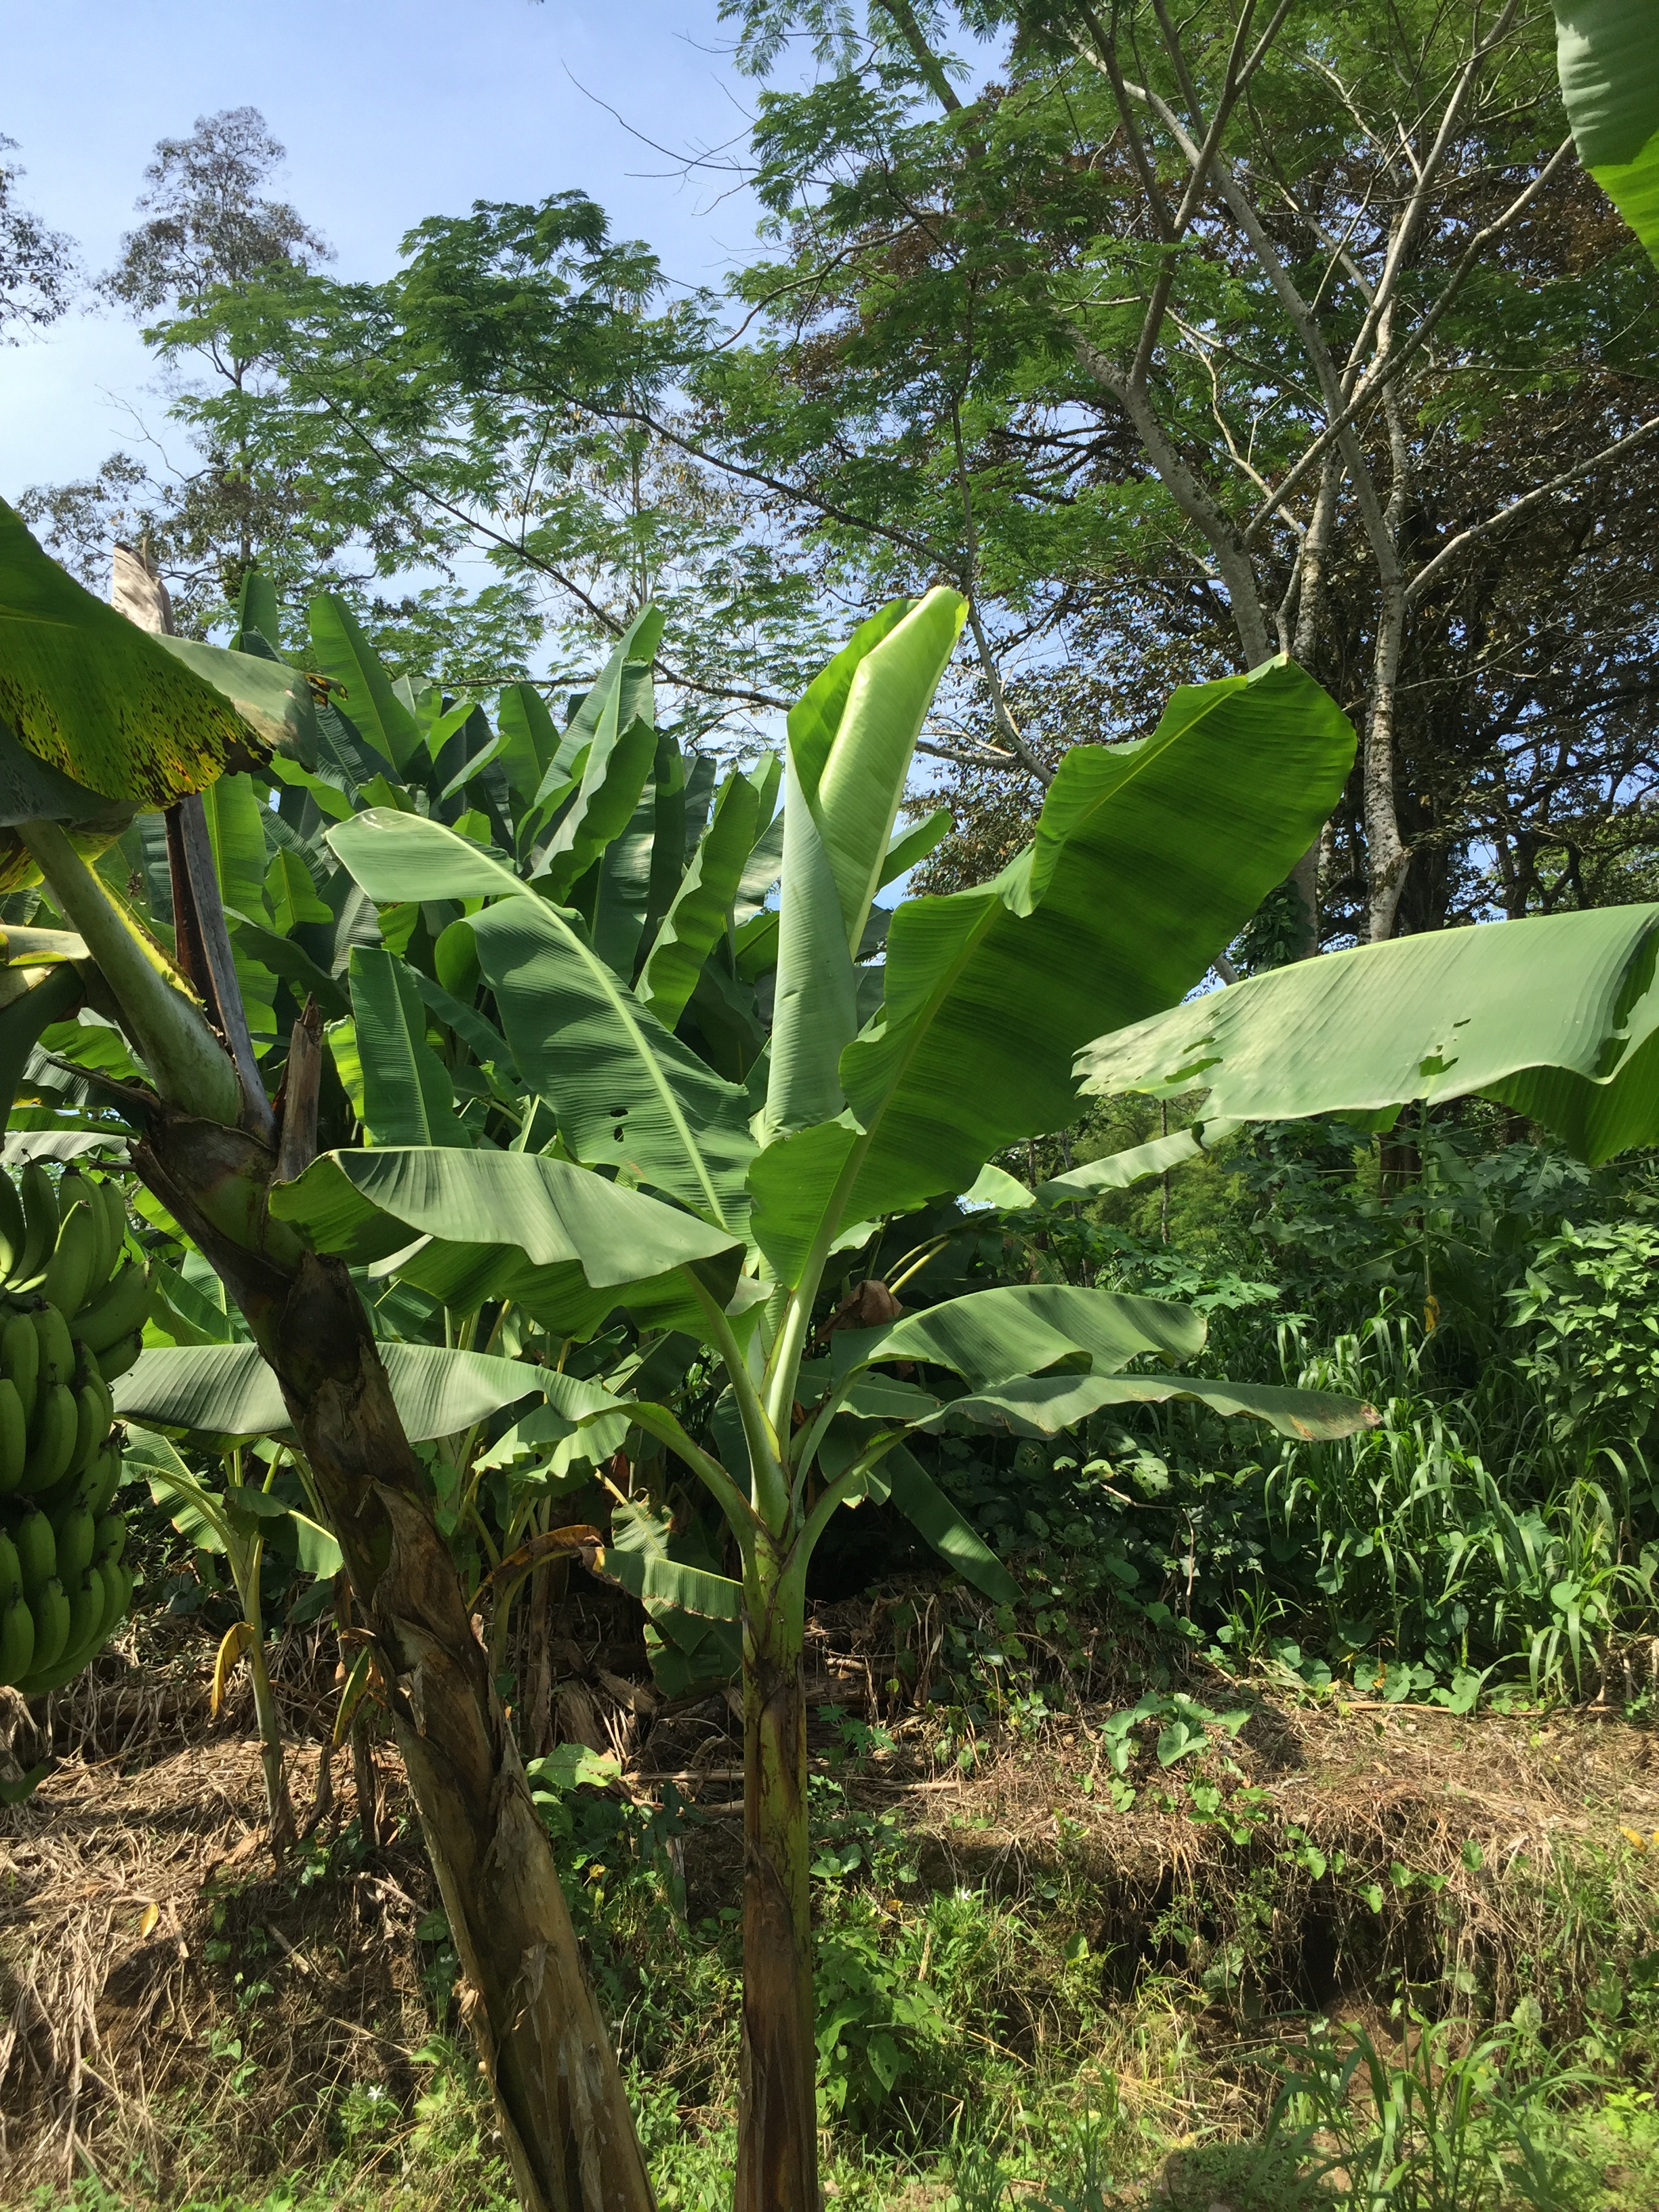candleleafs: (762, 583, 969, 1146)
